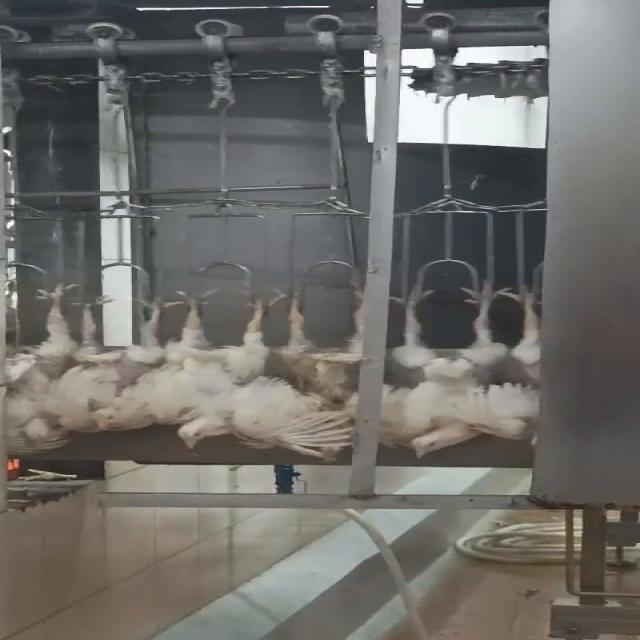chicken: (166, 290, 350, 460), (381, 278, 494, 460), (75, 286, 197, 438), (0, 274, 75, 456), (282, 272, 378, 410), (501, 284, 543, 389)
